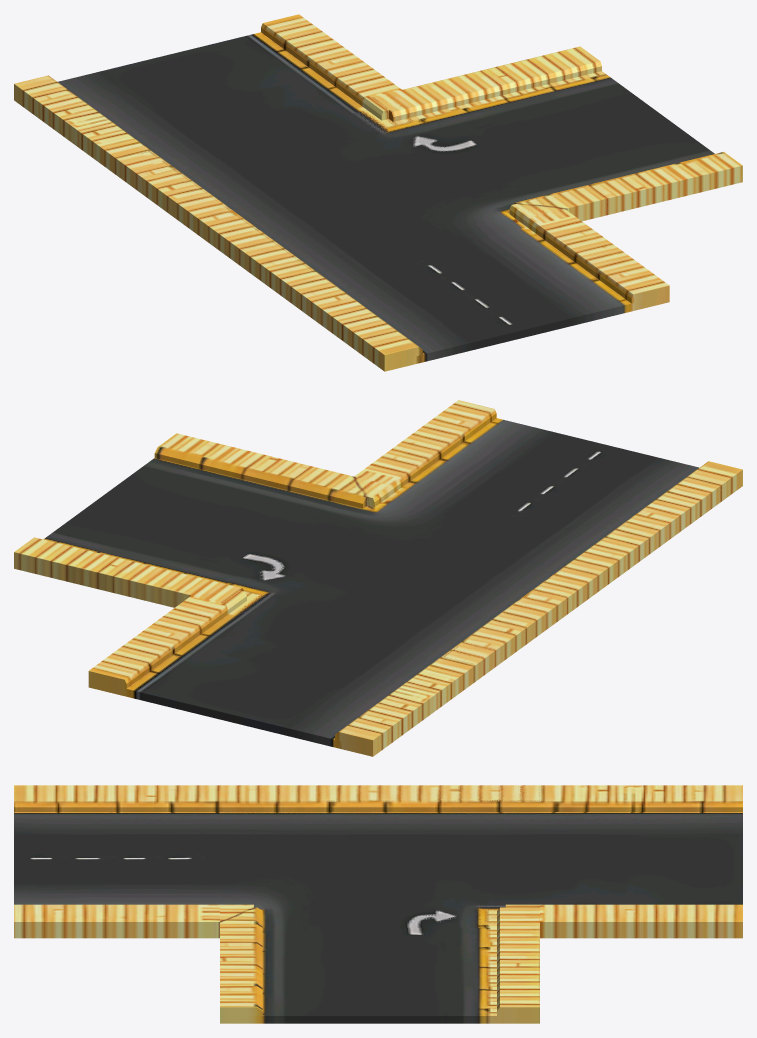
The model's file is Road3.glb.
The picture shows the model from 3 angles, top to bottom: view 1: azimuth 30°, elevation 25°; view 2: azimuth 150°, elevation 25°; view 3: azimuth 270°, elevation 25°; orthographic projection.
Parts seen in each view (by area): view 1: Road3; view 2: Road3; view 3: Road3.
Boxes of the visible parts, <box> form: Road3: <box>14,14,742,371</box>; Road3: <box>14,400,742,756</box>; Road3: <box>14,785,742,1023</box>.
Bounding box in the file's own units: 184 × 6.29 × 255.
Materials: 1 (1 with a texture image).
